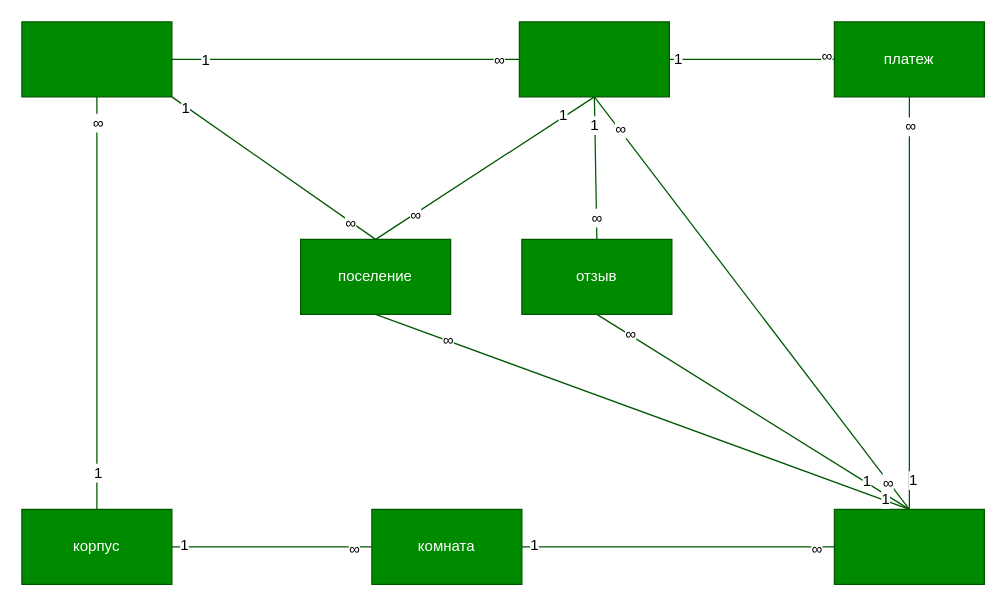
This 1006x606 diagram has some shape labels left out. The box of each missing label's shape, as (x1, y1, x2, y2) in pixels:
место: (833, 508, 984, 584)
сотрудник: (21, 21, 172, 97)
студент: (518, 21, 669, 97)
